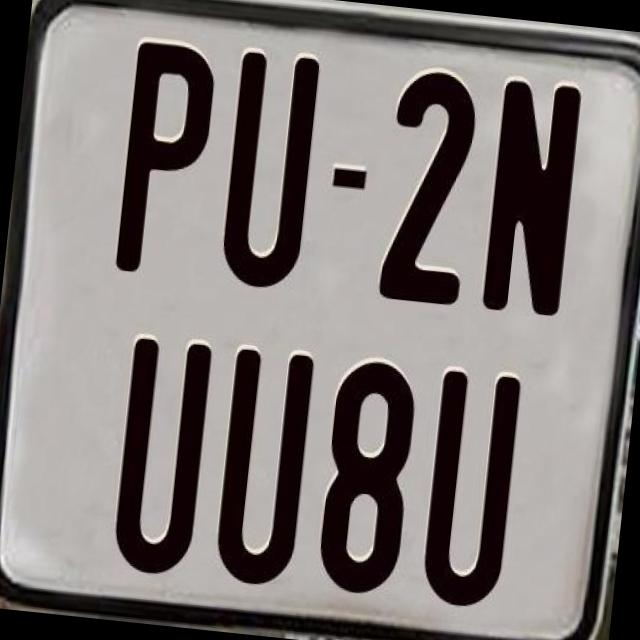2: (376, 63, 489, 310)
8: (311, 356, 418, 598)
N: (478, 76, 585, 320)
P: (114, 40, 218, 286)
U: (216, 49, 326, 299), (416, 366, 526, 609), (209, 348, 314, 596), (110, 338, 214, 584)
